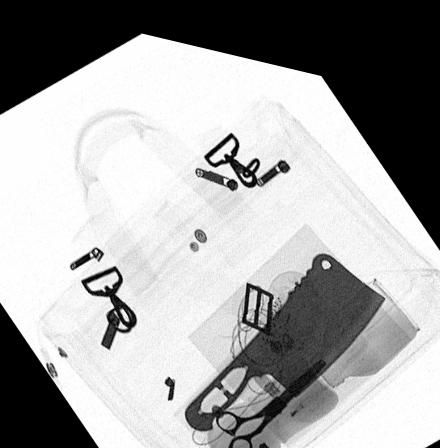Knife: (185, 237, 384, 420)
Scissors: (216, 341, 327, 448)
